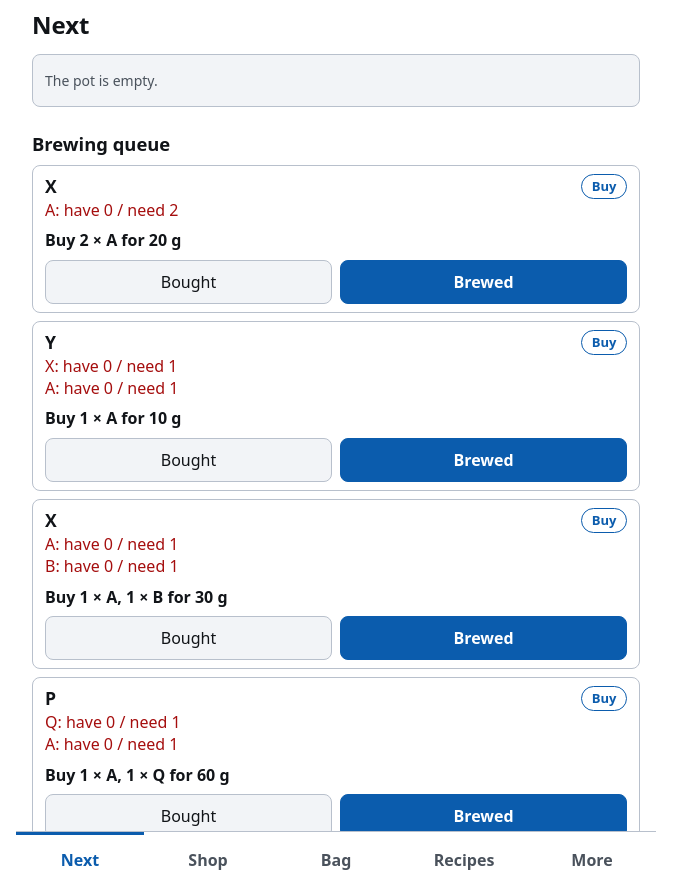
Test: Recipes › lists every recipe with spoilers on
Click the button "Recipes".
click(464, 860)  # box [400, 832, 528, 887]
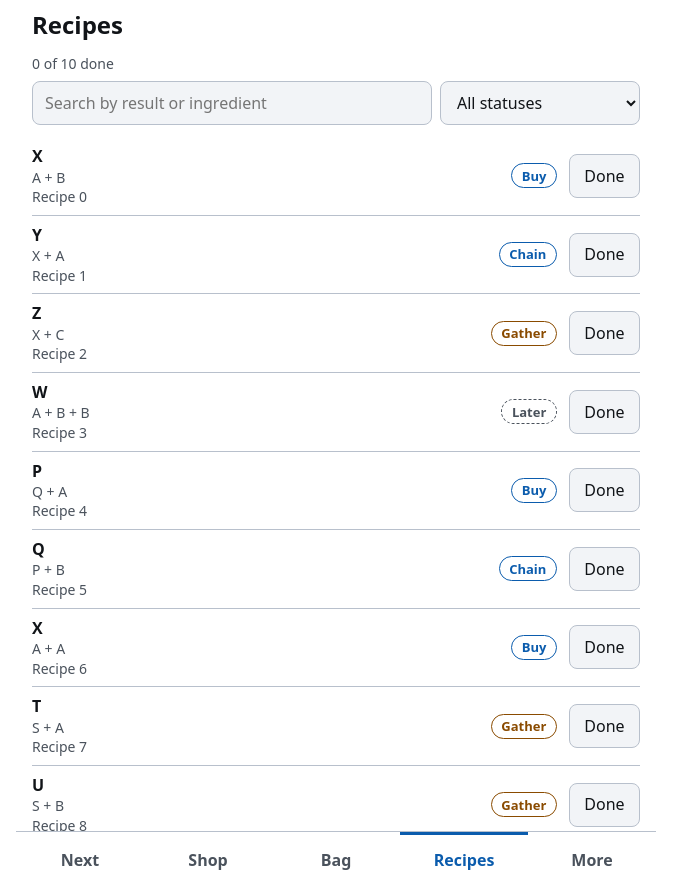
Check: the number of list items is 10
